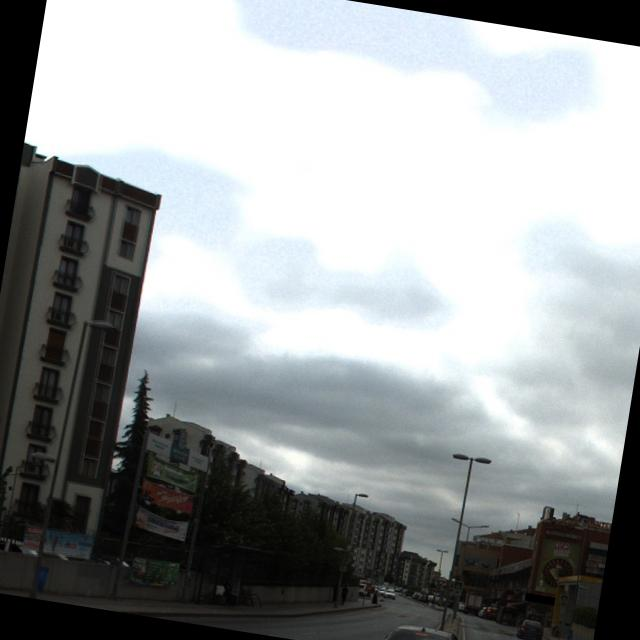SignStore: (525, 593, 555, 606)
